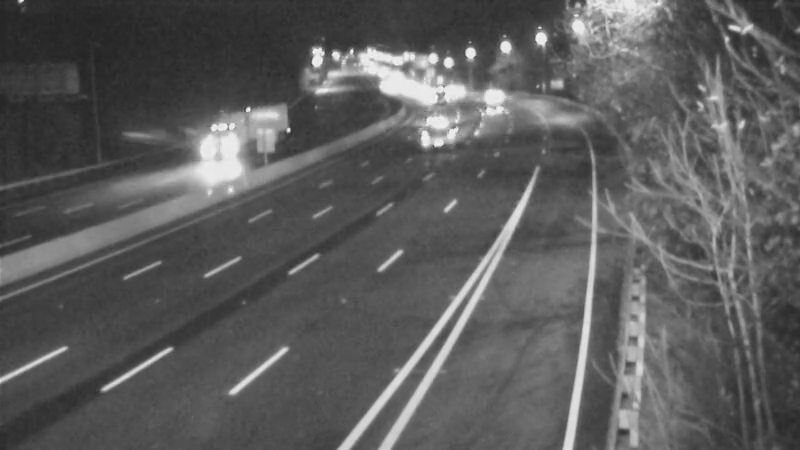vehicle: (430, 65, 480, 115), (459, 67, 509, 117), (415, 72, 465, 122), (467, 82, 517, 132), (413, 92, 463, 142), (417, 114, 467, 164), (196, 116, 246, 166)
